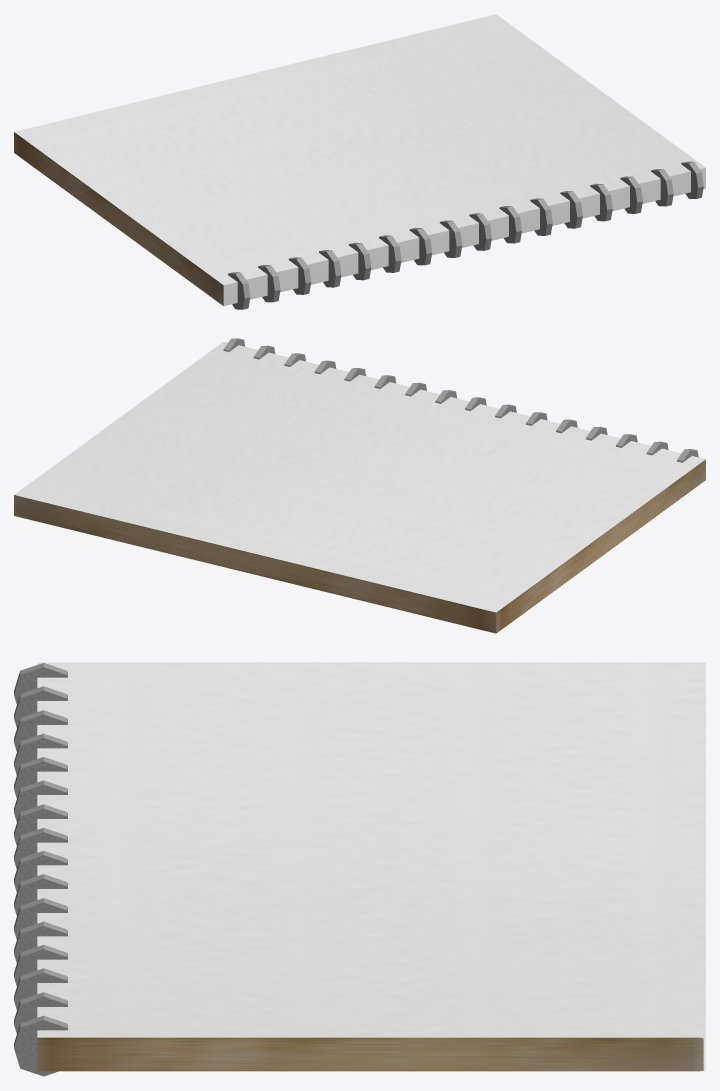
File: notebook003.fbx
The picture shows the model from 3 angles, top to bottom: view 1: azimuth 30°, elevation 25°; view 2: azimuth 150°, elevation 25°; view 3: azimuth 270°, elevation 25°; orthographic projection. The views are drawn at different scales.
Parts seen in each view (by area): view 1: Cube; view 2: Cube; view 3: Cube.
Boxes of the visible parts, box(x1,y1,x2,y2) form: Cube: box(14, 14, 705, 309); Cube: box(14, 338, 705, 633); Cube: box(14, 662, 705, 1076).
Size of the model in its own units: 250 by 17.54 by 194.
17 materials, 17 textured.
